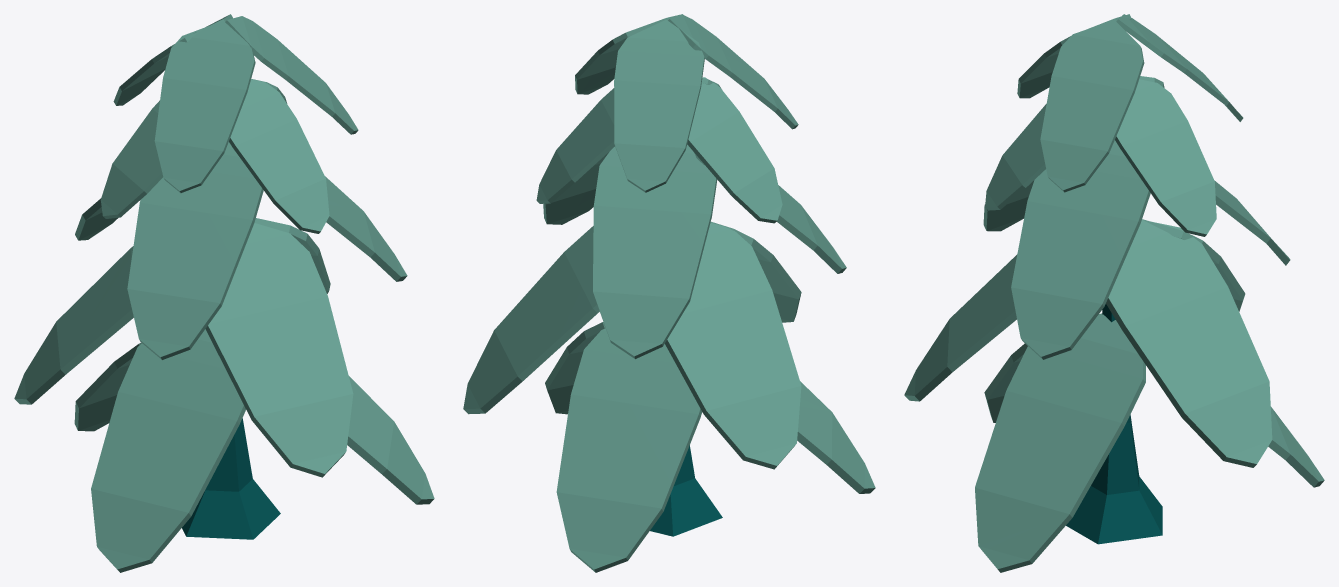
Rendered from Mint.fbx.
3 renders of one model, left to right at view 1: azimuth 30°, elevation 25°; view 2: azimuth 150°, elevation 25°; view 3: azimuth 270°, elevation 25°, orthographic.
Visible parts, largest first — view 1: Mint; view 2: Mint; view 3: Mint.
Part boxes in pixels (left/top/right/bottom): Mint: left=14, top=14, right=434, bottom=572; Mint: left=463, top=14, right=875, bottom=572; Mint: left=904, top=14, right=1324, bottom=572.
Size of the model in its own units: 0.6949 by 0.6188 by 0.9149.
